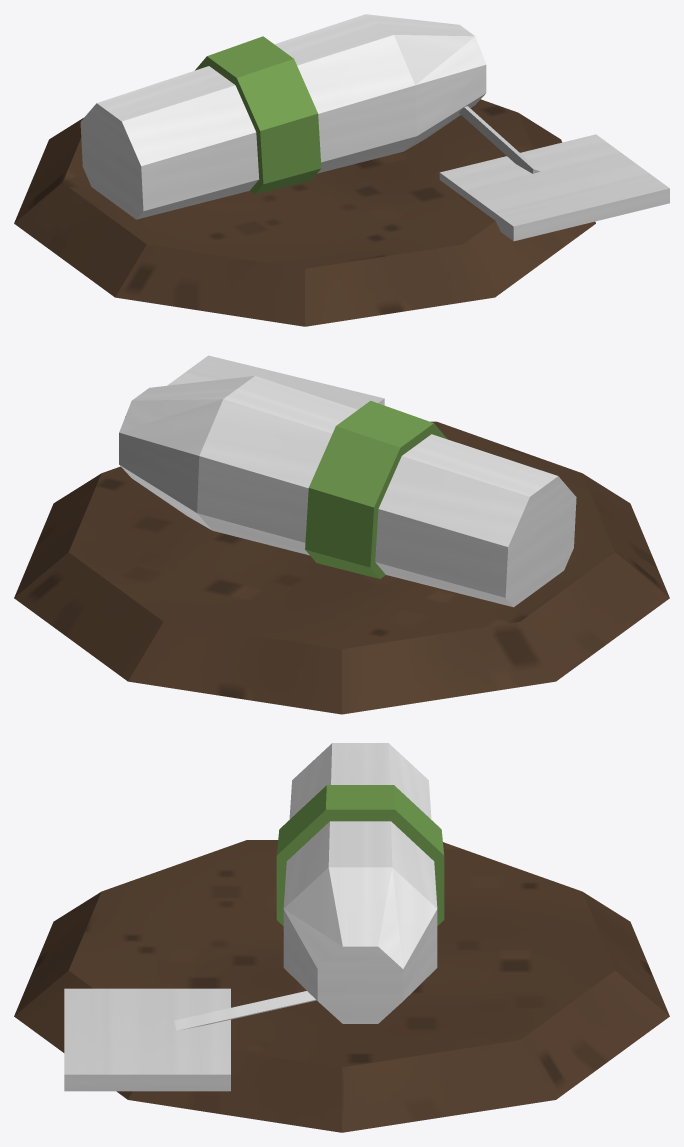
File: ied_toxgas.obj
The picture shows the model from 3 angles, top to bottom: view 1: azimuth 30°, elevation 25°; view 2: azimuth 150°, elevation 25°; view 3: azimuth 270°, elevation 25°; orthographic projection. The views are drawn at different scales.
Visible parts, largest first — view 1: source_component_009, source_component_062, source_component_006, source_component_005, source_component_004, source_component_010, source_component_011, source_component_024, source_component_025, source_component_042, source_component_007, source_component_012 (+21 smaller); view 2: source_component_009, source_component_003, source_component_002, source_component_001, source_component_004, source_component_014, source_component_015, source_component_016, source_component_017, source_component_042, source_component_012, source_component_013 (+18 smaller); view 3: source_component_009, source_component_062, source_component_000, source_component_001, source_component_008, source_component_043, source_component_061, source_component_002, source_component_006, source_component_066, source_component_012, source_component_029 (+23 smaller).
Boxes of the visible parts, bbox=[...] form: source_component_009: bbox=[62, 99, 533, 268]; source_component_062: bbox=[440, 134, 669, 226]; source_component_006: bbox=[305, 244, 494, 326]; source_component_005: bbox=[115, 244, 304, 326]; source_component_004: bbox=[14, 183, 146, 297]; source_component_010: bbox=[142, 35, 414, 165]; source_component_011: bbox=[122, 35, 392, 165]; source_component_024: bbox=[144, 85, 417, 210]; source_component_025: bbox=[141, 86, 413, 210]; source_component_042: bbox=[80, 103, 143, 219]; source_component_007: bbox=[463, 221, 595, 297]; source_component_012: bbox=[123, 14, 393, 120]; source_component_009: bbox=[69, 421, 614, 648]; source_component_003: bbox=[342, 622, 555, 714]; source_component_002: bbox=[128, 622, 341, 714]; source_component_001: bbox=[14, 552, 163, 681]; source_component_004: bbox=[520, 552, 669, 681]; source_component_014: bbox=[199, 399, 528, 496]; source_component_015: bbox=[201, 456, 529, 546]; source_component_016: bbox=[197, 456, 506, 546]; source_component_017: bbox=[198, 513, 507, 597]; source_component_042: bbox=[505, 476, 576, 606]; source_component_012: bbox=[224, 376, 556, 475]; source_component_013: bbox=[226, 399, 557, 496]; source_component_009: bbox=[68, 840, 615, 1067]; source_component_062: bbox=[64, 988, 230, 1074]; source_component_000: bbox=[342, 1040, 555, 1132]; source_component_001: bbox=[520, 970, 669, 1099]; source_component_008: bbox=[128, 1050, 341, 1132]; source_component_043: bbox=[317, 946, 403, 1023]; source_component_061: bbox=[276, 809, 444, 925]; source_component_002: bbox=[582, 892, 669, 1015]; source_component_006: bbox=[14, 892, 101, 1015]; source_component_066: bbox=[64, 1074, 230, 1091]; source_component_012: bbox=[328, 744, 391, 867]; source_component_029: bbox=[329, 867, 392, 946].
Size of the model in its own units: 0.6983 by 0.2054 by 0.709.
